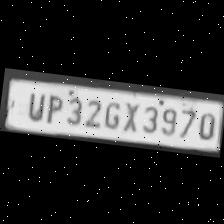0: (194, 108, 218, 140)
2: (80, 94, 104, 128)
3: (61, 92, 83, 126), (138, 100, 160, 133)
7: (174, 104, 196, 138)
9: (156, 102, 178, 136)
G: (100, 96, 122, 130)
P: (42, 90, 64, 124)
U: (21, 87, 46, 120)
X: (120, 97, 142, 132)
